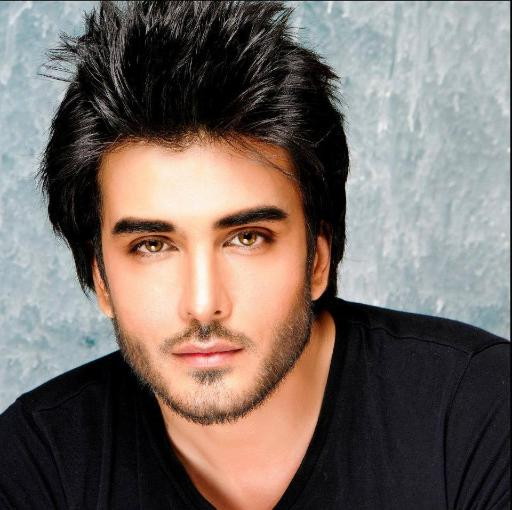left_eye: (222, 228, 278, 255)
left_lip_corner: (233, 342, 251, 362)
right_eye: (127, 236, 181, 262)
right_lip_corner: (168, 346, 188, 367)
